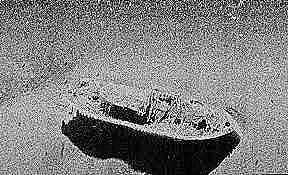ship: (67, 80, 239, 151)
